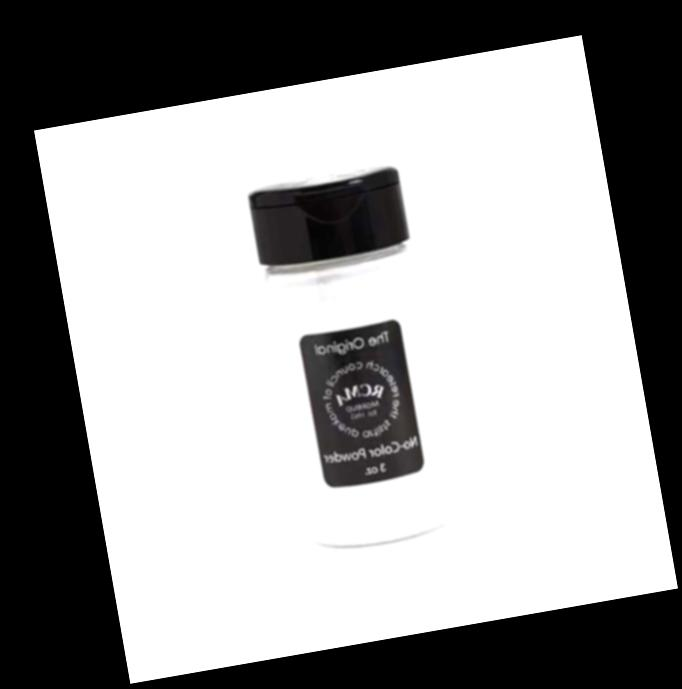cosmetic: (239, 162, 465, 552)
